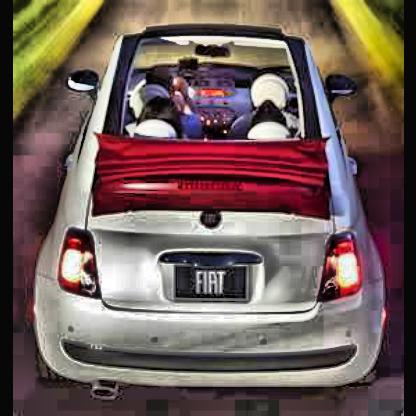FIAT 500 Convertible 2012: (30, 24, 389, 394)
